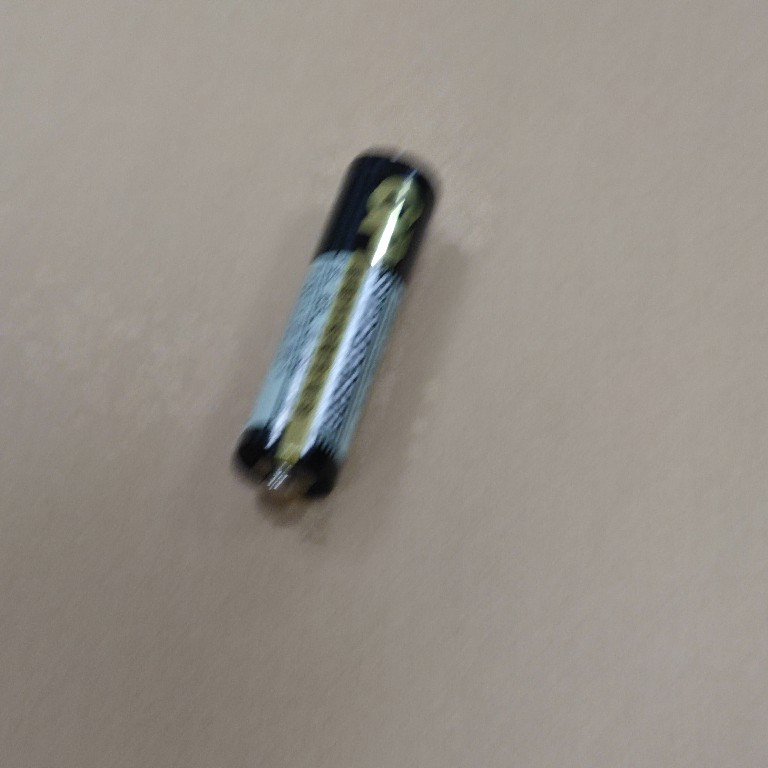charge: (228, 143, 447, 513)
